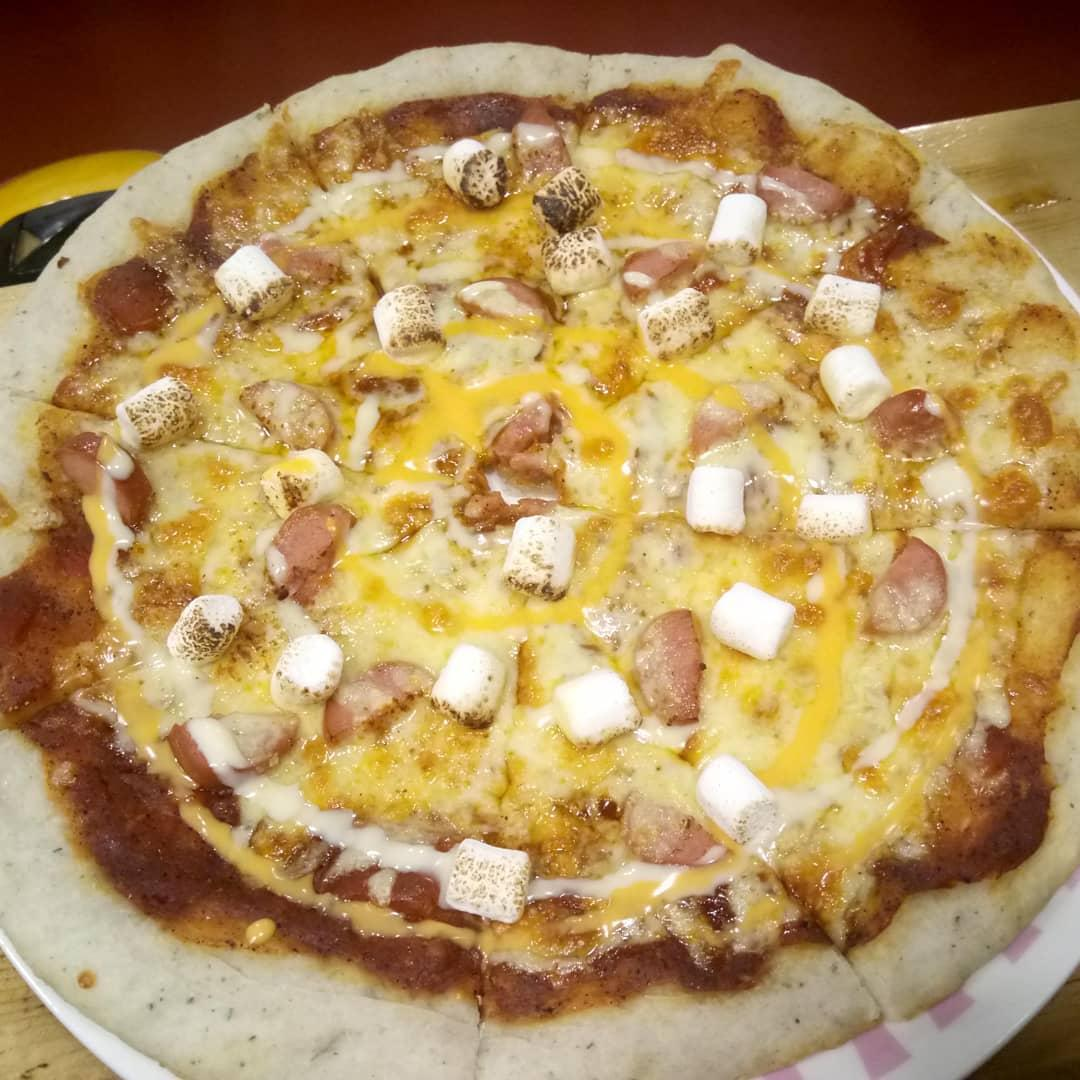Cheese: (691, 754, 787, 844), (550, 666, 645, 754), (438, 837, 531, 926), (709, 581, 796, 669), (153, 597, 253, 671), (215, 245, 305, 325), (112, 371, 202, 447), (633, 280, 721, 357), (503, 512, 580, 599), (429, 644, 509, 723), (796, 267, 883, 339), (679, 459, 756, 540), (810, 349, 895, 420), (698, 191, 775, 268), (256, 450, 350, 511), (796, 482, 881, 547), (541, 225, 617, 297), (270, 640, 345, 709), (368, 295, 445, 361), (441, 138, 511, 208), (534, 164, 607, 225)
Ham: (322, 659, 434, 748), (608, 787, 714, 871), (631, 609, 703, 714), (477, 389, 561, 469), (273, 511, 348, 598), (758, 158, 850, 228), (864, 544, 941, 621), (457, 273, 556, 327), (872, 382, 946, 446), (624, 240, 696, 284), (171, 714, 206, 728)
Pizza: (0, 0, 1080, 1080)
